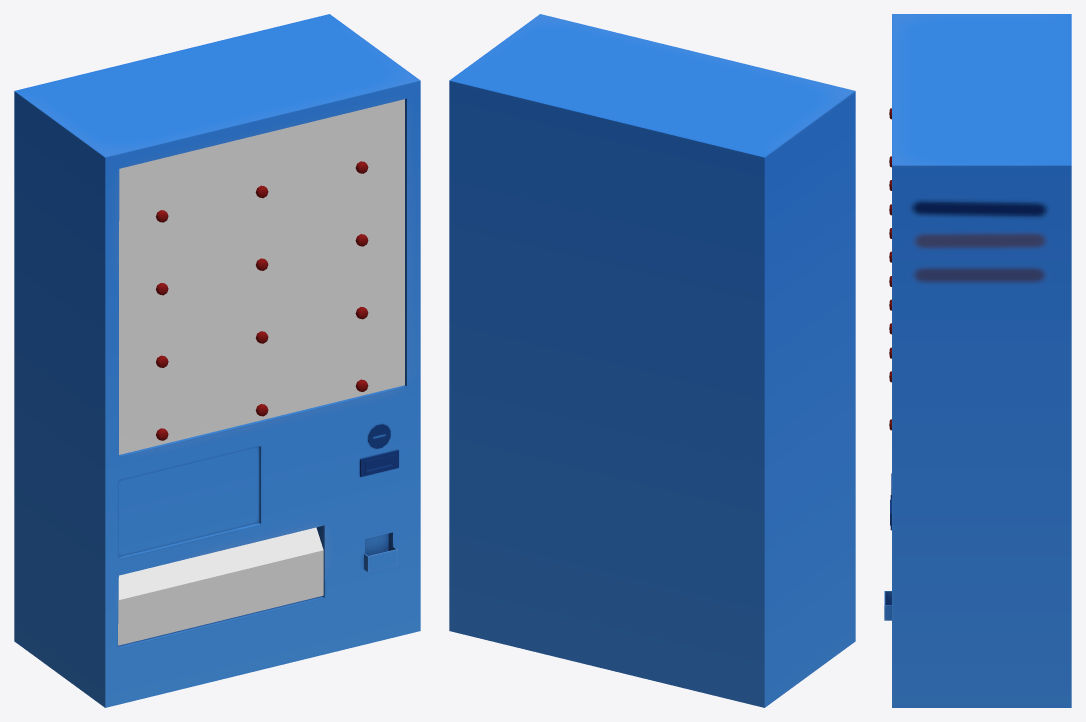
Rendered from VendingMachine.fbx.
The picture shows the model from 3 angles, left to right: view 1: azimuth 30°, elevation 25°; view 2: azimuth 150°, elevation 25°; view 3: azimuth 270°, elevation 25°; orthographic projection.
Parts seen in each view (by area): view 1: VendingMachine_LOD0, Kaca, Kaca1; view 2: VendingMachine_LOD0; view 3: VendingMachine_LOD0.
Boxes of the visible parts, left/top/right/bottom form: VendingMachine_LOD0: left=14, top=14, right=420, bottom=707; Kaca: left=119, top=99, right=404, bottom=454; Kaca1: left=118, top=527, right=323, bottom=645; VendingMachine_LOD0: left=449, top=14, right=855, bottom=707; VendingMachine_LOD0: left=884, top=14, right=1071, bottom=707.
Size of what is drawn, in the model's own units: 1200 by 2000 by 626.
